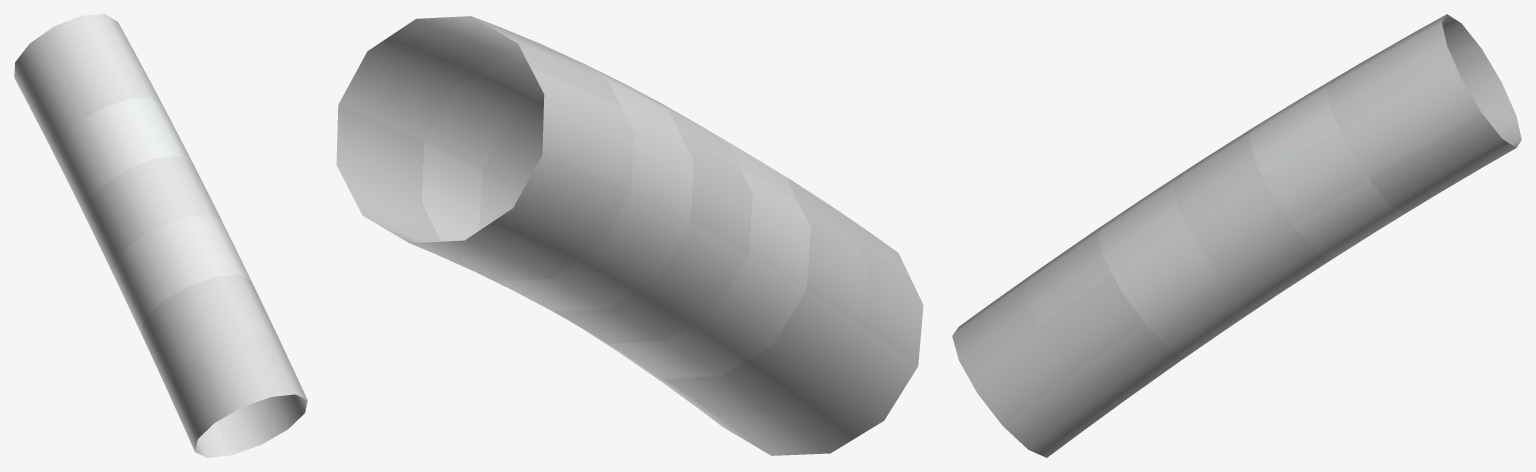
Rendered from luminairearm_truss8ft_c2.obj.
3 views of the same model, side by side, from view 1: azimuth 30°, elevation 25°; view 2: azimuth 150°, elevation 25°; view 3: azimuth 270°, elevation 25° (orthographic). The views are drawn at different scales.
Parts seen in each view (by area): view 1: luminairearm_truss8ft_c2; view 2: luminairearm_truss8ft_c2; view 3: luminairearm_truss8ft_c2.
Boxes of the visible parts, bbox=[...] form: luminairearm_truss8ft_c2: bbox=[14, 14, 307, 457]; luminairearm_truss8ft_c2: bbox=[336, 16, 923, 455]; luminairearm_truss8ft_c2: bbox=[952, 14, 1521, 457].
Bounding box in the file's own units: 0.2192 × 0.6431 × 0.7787.
